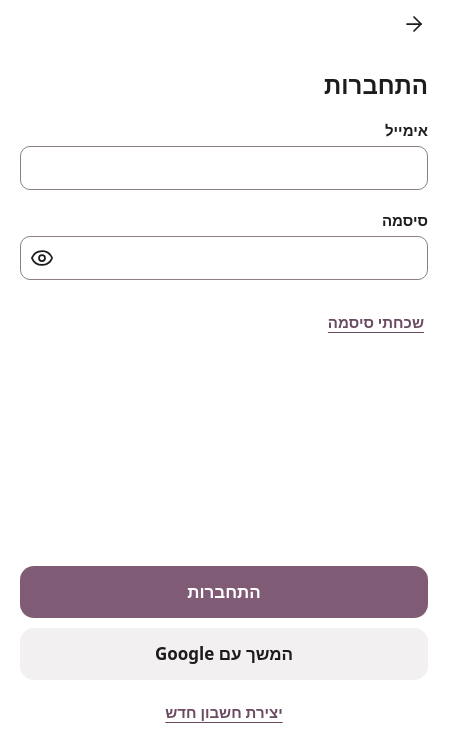
Test: [F1.5 c6][ERR-001] the other sign-in failures: three texts, never an Auth or server string › [c6] a network error
This screenshot has width=449, height=740.
Check: the heading "התחברות" is shown, box [324,68,428,101]
Type "dana.cohen@example.com" into the field labelled "אימייל". click: (224, 168)
box: [20,146,428,190]
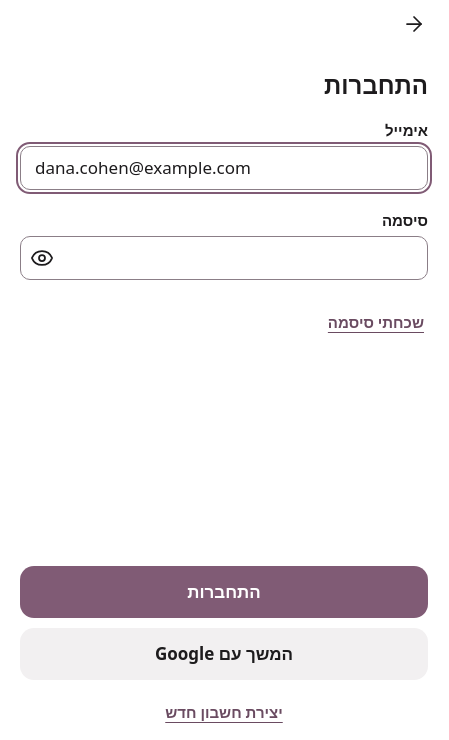
Type "correct horse 42 zq" into the password field labelled "סיסמה". click: (224, 258)
box: [20,236,428,280]
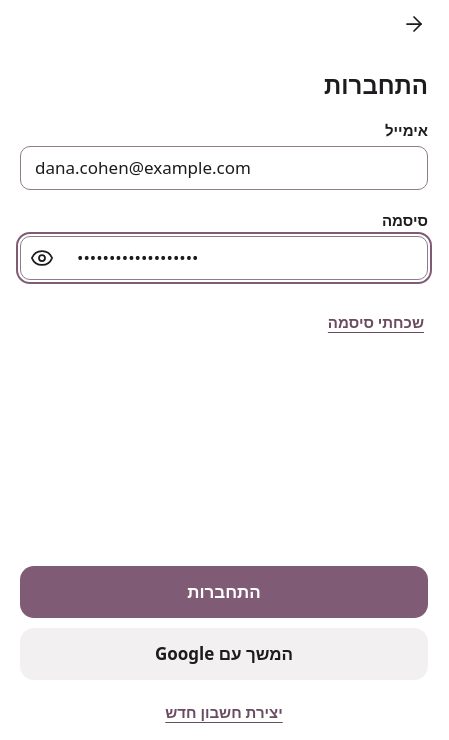
Click the button "התחברות". click: (224, 592)
box: [20,566,428,618]
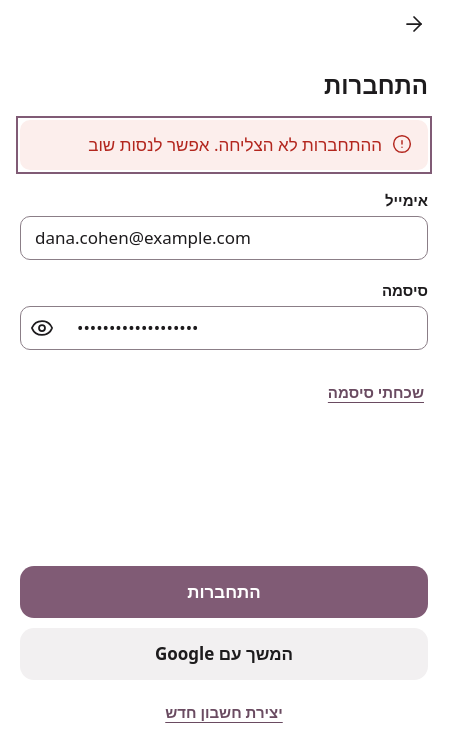
Check: the number of messages is 1, box [20,120,428,170]
Check: the message reads "ההתחברות לא הצליחה. אפשר לנסות שוב", box [88,133,382,156]
